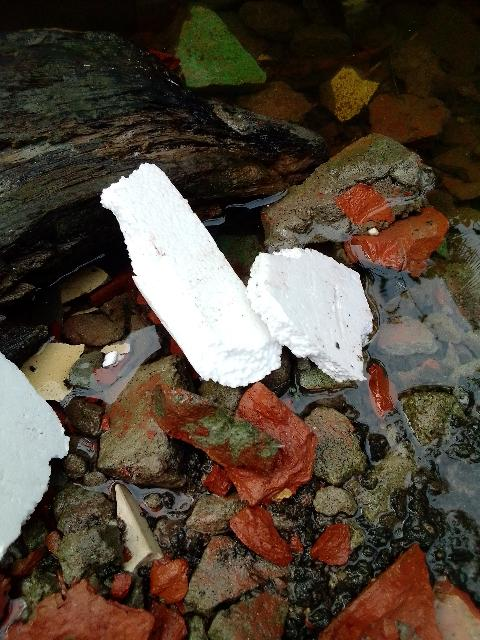cocksheet: (89, 154, 289, 408), (227, 217, 390, 383)
